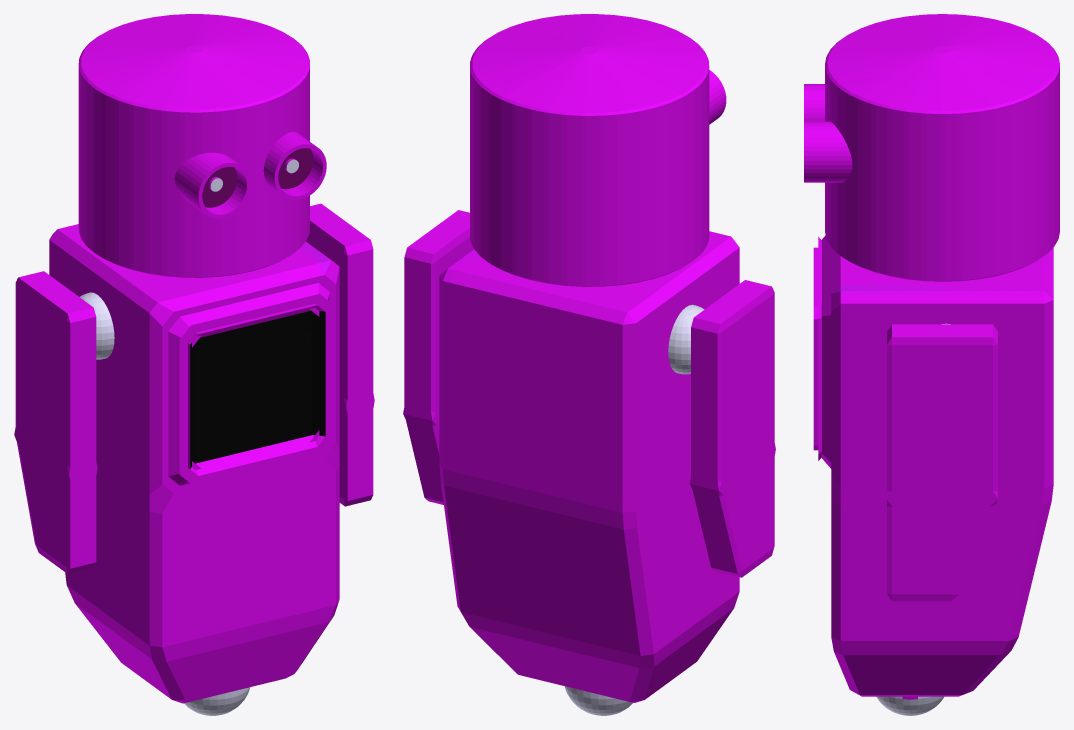
The model's file is Purple_Robot.glb.
3 renders of one model, left to right at view 1: azimuth 30°, elevation 25°; view 2: azimuth 150°, elevation 25°; view 3: azimuth 270°, elevation 25°, orthographic. The views are drawn at different scales.
Visible parts, largest first — view 1: Cube.001; view 2: Cube.001; view 3: Cube.001.
Boxes of the visible parts, x1,y1,x2,y2 form: Cube.001: (14, 14, 374, 715); Cube.001: (403, 14, 775, 715); Cube.001: (804, 14, 1059, 715).
Bounding box in the file's own units: 3.22 × 6.56 × 2.3.
1 material, 1 textured.
